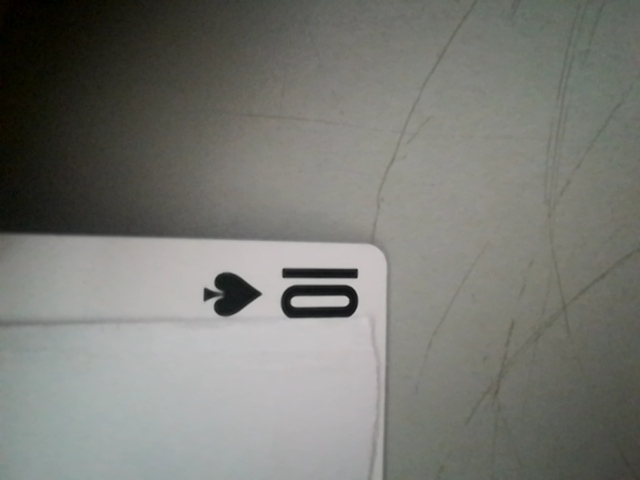ht 10: (190, 254, 378, 330)
